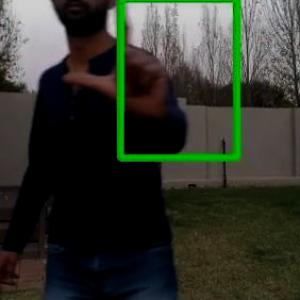land_hand: (57, 0, 176, 130)
